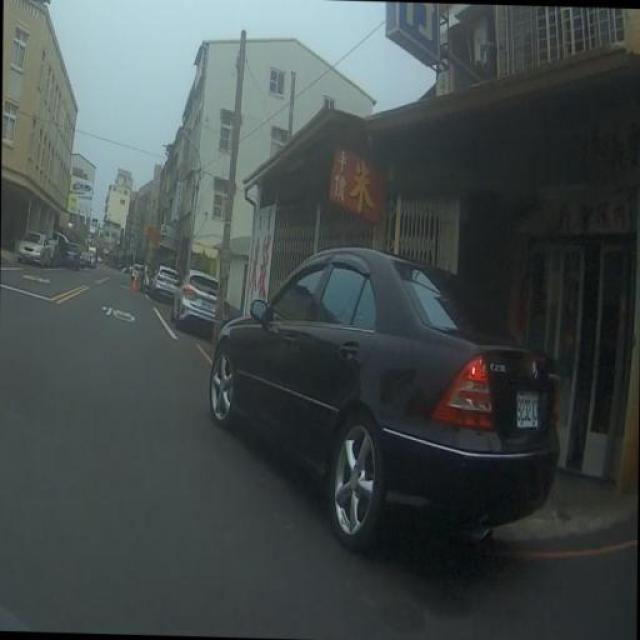illegalparking: (208, 241, 609, 587)
